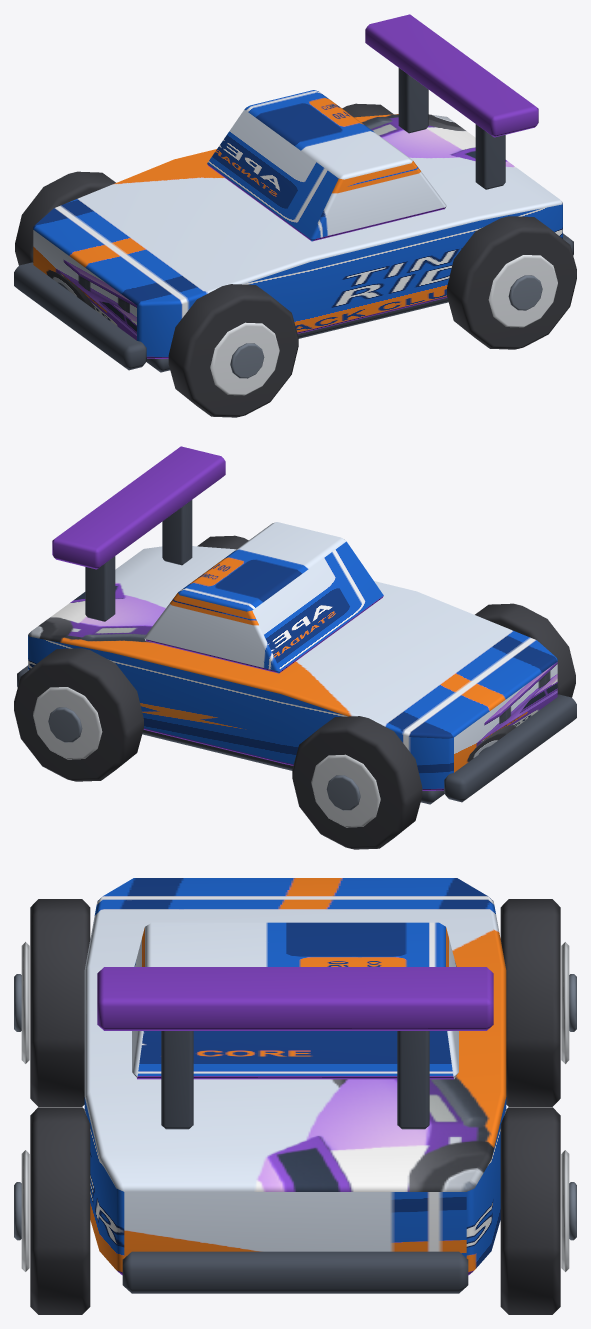
3 renders of one model, top to bottom at view 1: azimuth 30°, elevation 25°; view 2: azimuth 150°, elevation 25°; view 3: azimuth 270°, elevation 25°, orthographic. The views are drawn at different scales.
Parts seen in each view (by area): view 1: TC-05_connected_shell, TC-05_cabin, Tire, Tire.002, rear airfoil, front bumper, Rim, Rim.002, Tire.001, wing support, wing support.001, underbody (+3 smaller); view 2: TC-05_connected_shell, TC-05_cabin, Tire.001, Tire.003, rear airfoil, front bumper, Rim.001, Rim.003, Tire, wing support.001, wing support, underbody (+3 smaller); view 3: TC-05_connected_shell, TC-05_cabin, rear airfoil, rear bumper, Tire.002, Tire.003, Tire, Tire.001, wing support, wing support.001, Rim.002, Rim.003 (+2 smaller).
Part boxes in pixels (x1,y1,x2,y2): TC-05_connected_shell: (33, 114, 562, 358); TC-05_cabin: (207, 90, 446, 241); Tire: (168, 284, 298, 417); Tire.002: (447, 216, 576, 349); rear airfoil: (365, 14, 538, 137); front bumper: (14, 262, 146, 370); Rim: (210, 322, 279, 395); Rim.002: (488, 255, 557, 327); Tire.001: (15, 171, 115, 265); wing support: (475, 124, 505, 189); wing support.001: (398, 68, 428, 133); underbody: (146, 298, 448, 372); TC-05_connected_shell: (28, 546, 557, 790); TC-05_cabin: (144, 522, 383, 673); Tire.001: (292, 716, 422, 849); Tire.003: (14, 648, 143, 781); rear airfoil: (52, 446, 225, 569); front bumper: (444, 694, 576, 802); Rim.001: (311, 754, 380, 827); Rim.003: (33, 687, 102, 759); Tire: (475, 603, 575, 697); wing support.001: (85, 556, 115, 621); wing support: (162, 500, 192, 565); underbody: (142, 730, 444, 804); TC-05_connected_shell: (84, 878, 506, 1275); TC-05_cabin: (132, 922, 458, 1079); rear airfoil: (97, 967, 493, 1030); rear bumper: (122, 1251, 468, 1293); Tire.002: (30, 1107, 90, 1314); Tire.003: (500, 1107, 560, 1314); Tire: (30, 899, 90, 1106); Tire.001: (500, 899, 560, 1106); wing support: (161, 1031, 193, 1129); wing support.001: (397, 1031, 429, 1129); Rim.002: (21, 1150, 29, 1271); Rim.003: (561, 1150, 569, 1271).
Size of the model in its own units: 345 by 159 by 243.
